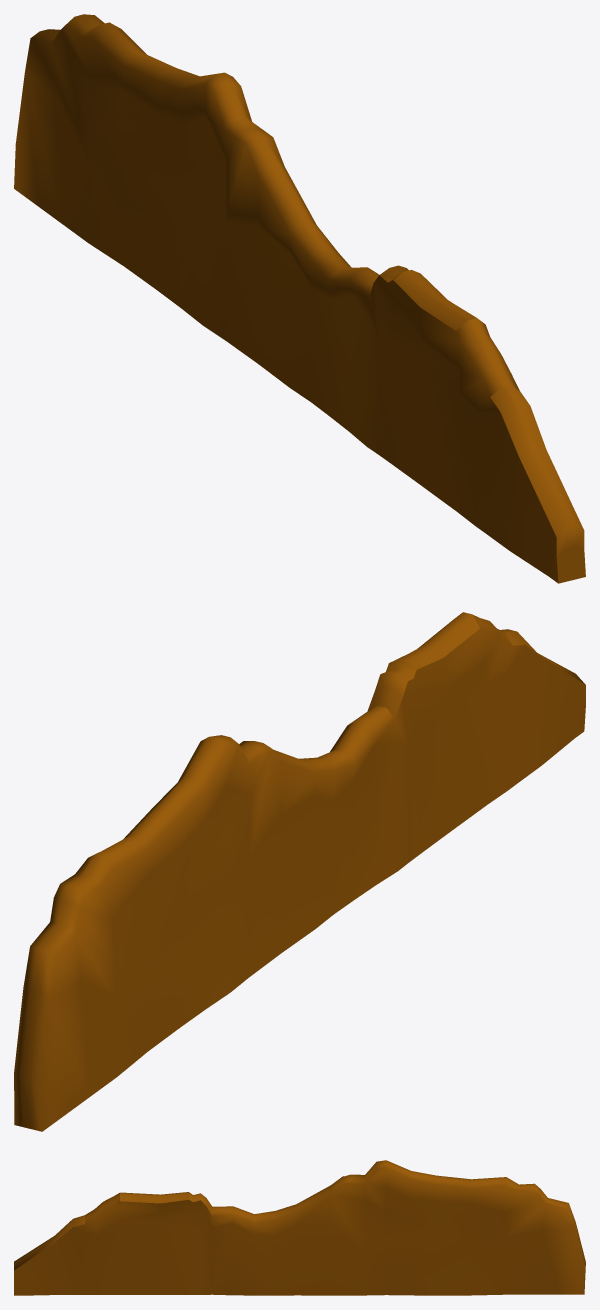
The model's file is Prop_RuinWall2.FBX.
3 views of the same model, one above another, from view 1: azimuth 30°, elevation 25°; view 2: azimuth 150°, elevation 25°; view 3: azimuth 270°, elevation 25° (orthographic). The views are drawn at different scales.
Parts seen in each view (by area): view 1: Ruin wall 2; view 2: Ruin wall 2; view 3: Ruin wall 2.
Boxes of the visible parts, x1,y1,x2,y2 form: Ruin wall 2: (14,14,585,583); Ruin wall 2: (14,612,585,1131); Ruin wall 2: (14,1160,585,1295).
Bounding box in the file's own units: 24.68 × 177 × 701.
